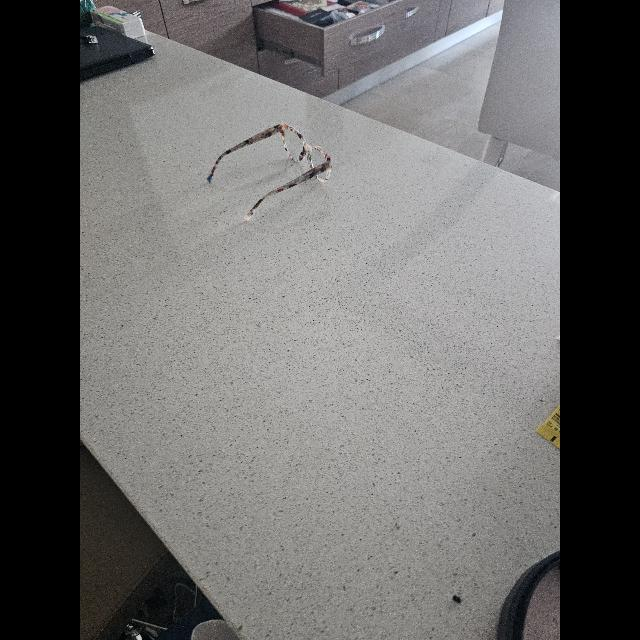glasses: (208, 124, 332, 220)
